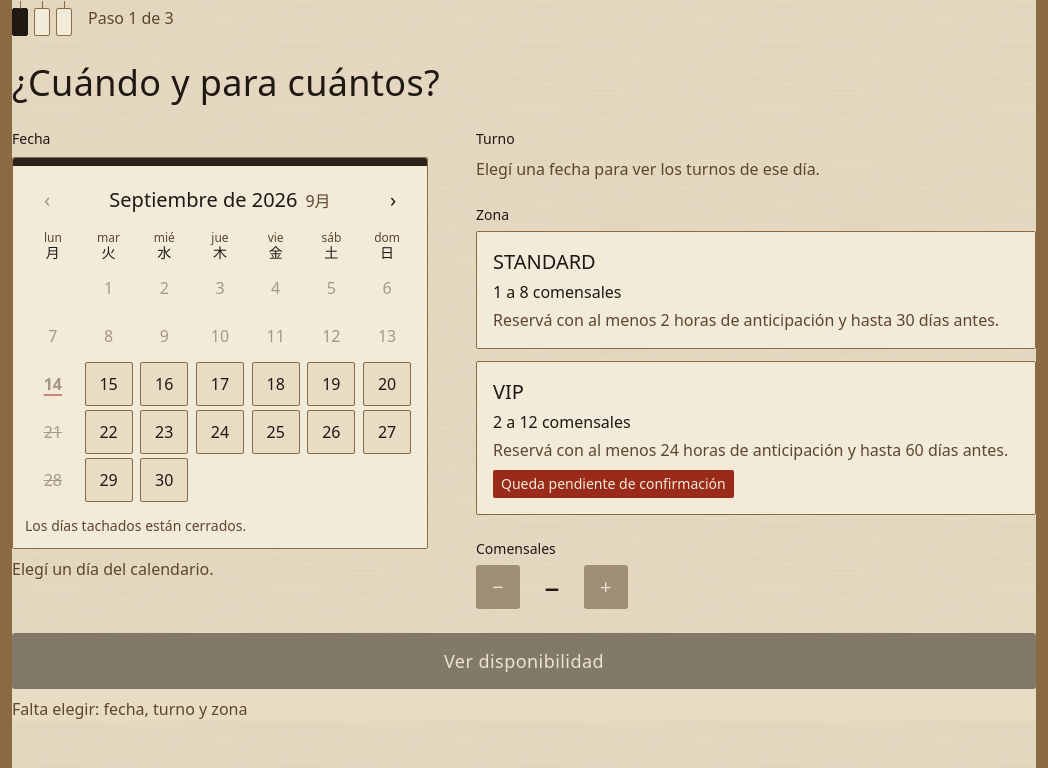
Test: FormularioSeleccion - fecha › al elegir un día lo anuncia con su nombre completo y lo marca como elegido
The width and height of the screenshot is (1048, 768).
Click the button "19" at (331, 384), box [307,362,355,406]
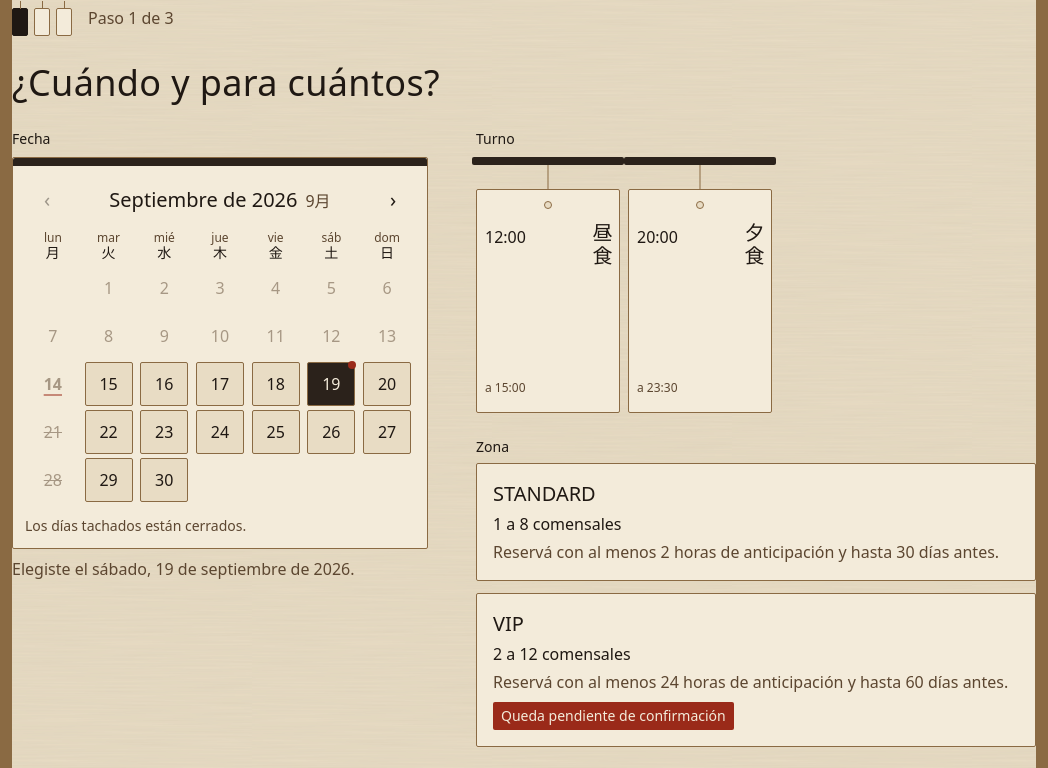
Expected: the text "Elegiste el sábado, 19 de septiembre de 2026." is shown, [12,558,354,580]
